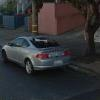Car: (3, 26, 72, 77)
